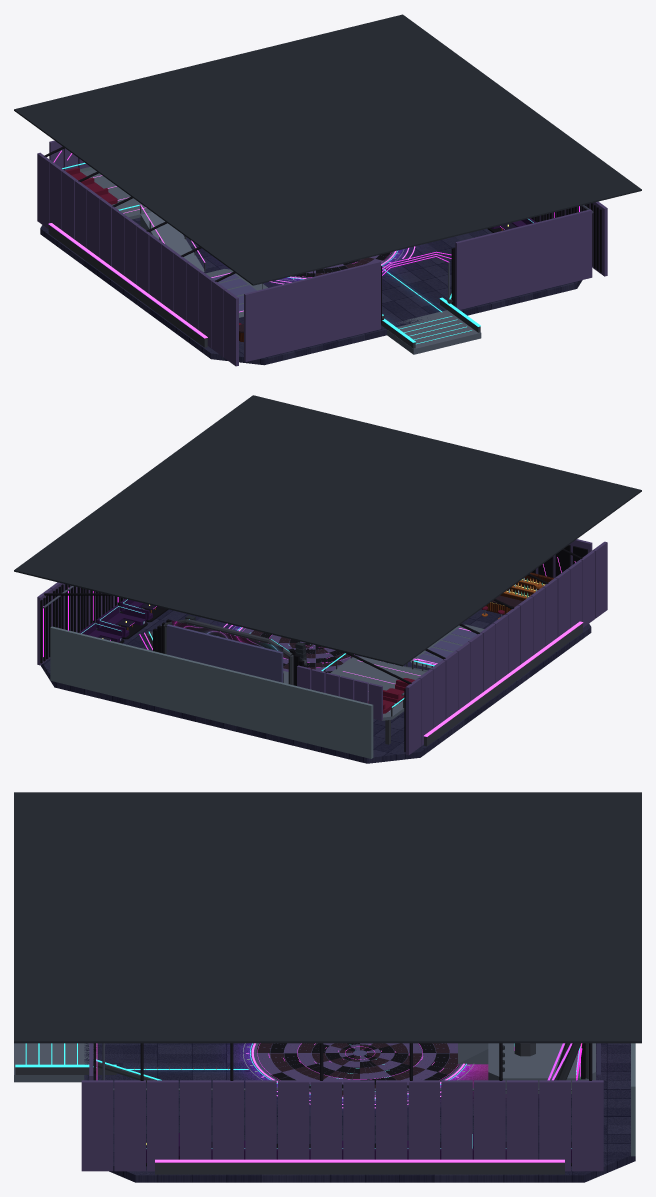
Rendered from edm-festival.glb.
3 views of the same model, one above another, from view 1: azimuth 30°, elevation 25°; view 2: azimuth 150°, elevation 25°; view 3: azimuth 270°, elevation 25° (orthographic). The views are drawn at different scales.
Parts seen in each view (by area): view 1: Ceiling, Entrance return walls, Perimeter acoustic bays, Arena floor, Entry floor, Side wall, West deck ramp, Ribbed acoustic facing, West upper deck, Side wall coping, Mezzanine rear panels, West floor pattern (+1 smaller); view 2: Ceiling, Rear wall, Perimeter acoustic bays, Arena floor, Stage backdrop, Ribbed acoustic facing, Mezzanine rear panels, West upper deck, Side wall, Inlaid smoked glass, Wall booth back, Stage surround (+7 smaller); view 3: Ceiling, Perimeter acoustic bays, Arena floor, Inlaid smoked glass, Side wall, DJ platform, Entry floor, Side wall coping, Dance floor, Roof ribs, Entry parapet, DJ access (+1 smaller).
Part boxes in pixels (<box>): Ceiling: <box>14,14,641,285</box>; Entrance return walls: <box>244,209,592,362</box>; Perimeter acoustic bays: <box>37,152,607,366</box>; Arena floor: <box>40,217,582,365</box>; Entry floor: <box>387,310,481,354</box>; Side wall: <box>48,225,207,347</box>; West deck ramp: <box>140,212,204,271</box>; Ribbed acoustic facing: <box>531,203,601,272</box>; West upper deck: <box>82,169,151,219</box>; Side wall coping: <box>48,223,207,338</box>; Mezzanine rear panels: <box>49,140,89,170</box>; West floor pattern: <box>210,272,256,312</box>; Ceiling: <box>14,395,641,666</box>; Rear wall: <box>50,626,373,758</box>; Perimeter acoustic bays: <box>37,541,607,755</box>; Arena floor: <box>40,607,591,763</box>; Stage backdrop: <box>166,624,283,682</box>; Ribbed acoustic facing: <box>40,584,405,752</box>; Mezzanine rear panels: <box>297,665,382,720</box>; West upper deck: <box>330,656,425,720</box>; Side wall: <box>424,623,582,746</box>; Inlaid smoked glass: <box>239,628,361,672</box>; Wall booth back: <box>79,599,149,637</box>; Stage surround: <box>163,619,293,685</box>; Ceiling: <box>14,792,641,1043</box>; Perimeter acoustic bays: <box>81,1080,603,1171</box>; Arena floor: <box>84,1043,635,1182</box>; Inlaid smoked glass: <box>256,1043,459,1096</box>; Side wall: <box>155,1162,564,1174</box>; DJ platform: <box>488,1043,595,1093</box>; Entry floor: <box>14,1043,96,1082</box>; Side wall coping: <box>155,1159,564,1162</box>; Dance floor: <box>251,1043,465,1098</box>; Roof ribs: <box>140,1043,592,1080</box>; Entry parapet: <box>15,1067,116,1074</box>; DJ access: <box>458,1043,488,1064</box>.
Size of what is drawn, in the model's own units: 46 by 12.41 by 49.
41 materials, 18 textured.
